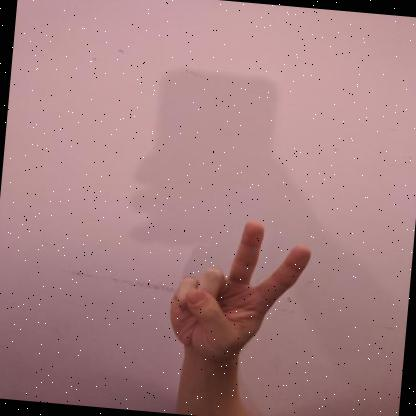V: (170, 220, 311, 355)
